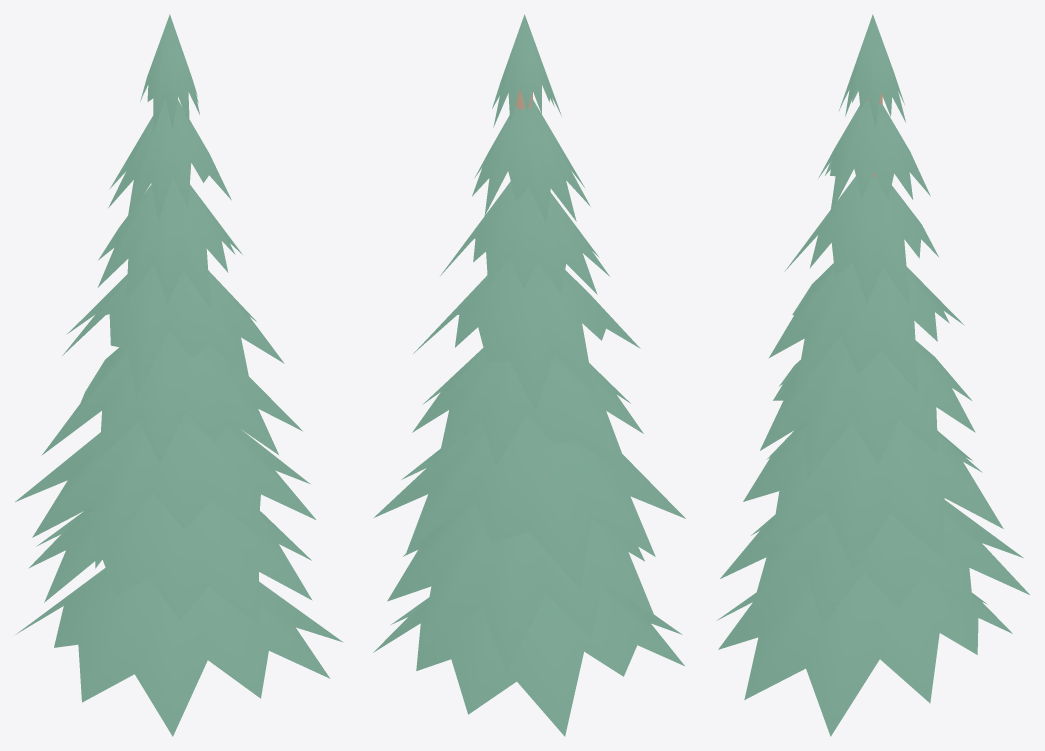
Rendered from Blender_Cedar_1_Far.glb.
The picture shows the model from 3 angles, left to right: view 1: azimuth 30°, elevation 25°; view 2: azimuth 150°, elevation 25°; view 3: azimuth 270°, elevation 25°; orthographic projection. The views are drawn at different scales.
Parts seen in each view (by area): view 1: Blender_Cedar_1_Far; view 2: Blender_Cedar_1_Far; view 3: Blender_Cedar_1_Far.
Part boxes in pixels (x1,y1,x2,y2): Blender_Cedar_1_Far: (15, 14, 343, 736); Blender_Cedar_1_Far: (373, 14, 685, 736); Blender_Cedar_1_Far: (716, 14, 1029, 736).
Size of the model in its own units: 11.71 by 25.45 by 11.23.
